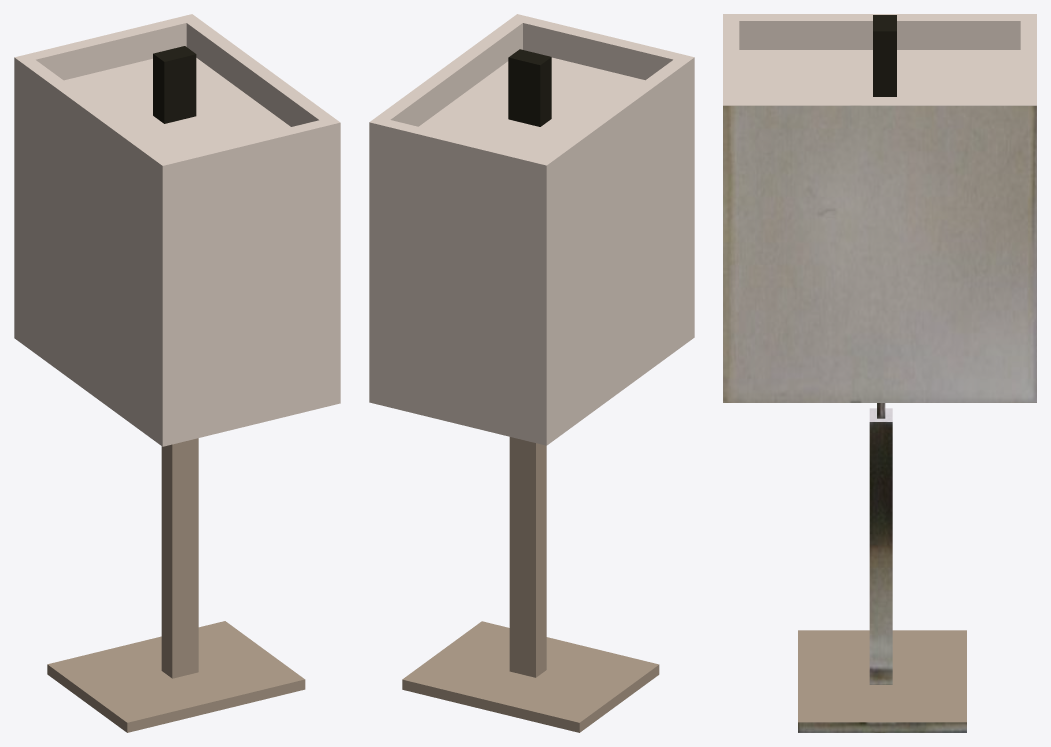
Rendered from Lamp.obj.
The picture shows the model from 3 angles, left to right: view 1: azimuth 30°, elevation 25°; view 2: azimuth 150°, elevation 25°; view 3: azimuth 270°, elevation 25°; orthographic projection. The views are drawn at different scales.
Visible parts, largest first — view 1: Mesh1 Group1 Model; view 2: Mesh1 Group1 Model; view 3: Mesh1 Group1 Model.
Part boxes in pixels (x1,y1,x2,y2): Mesh1 Group1 Model: (14, 14, 340, 732); Mesh1 Group1 Model: (369, 14, 694, 732); Mesh1 Group1 Model: (723, 14, 1036, 732).
Size of the model in its own units: 6.75 by 22.75 by 9.75.
Materials: 7 (3 with a texture image).
